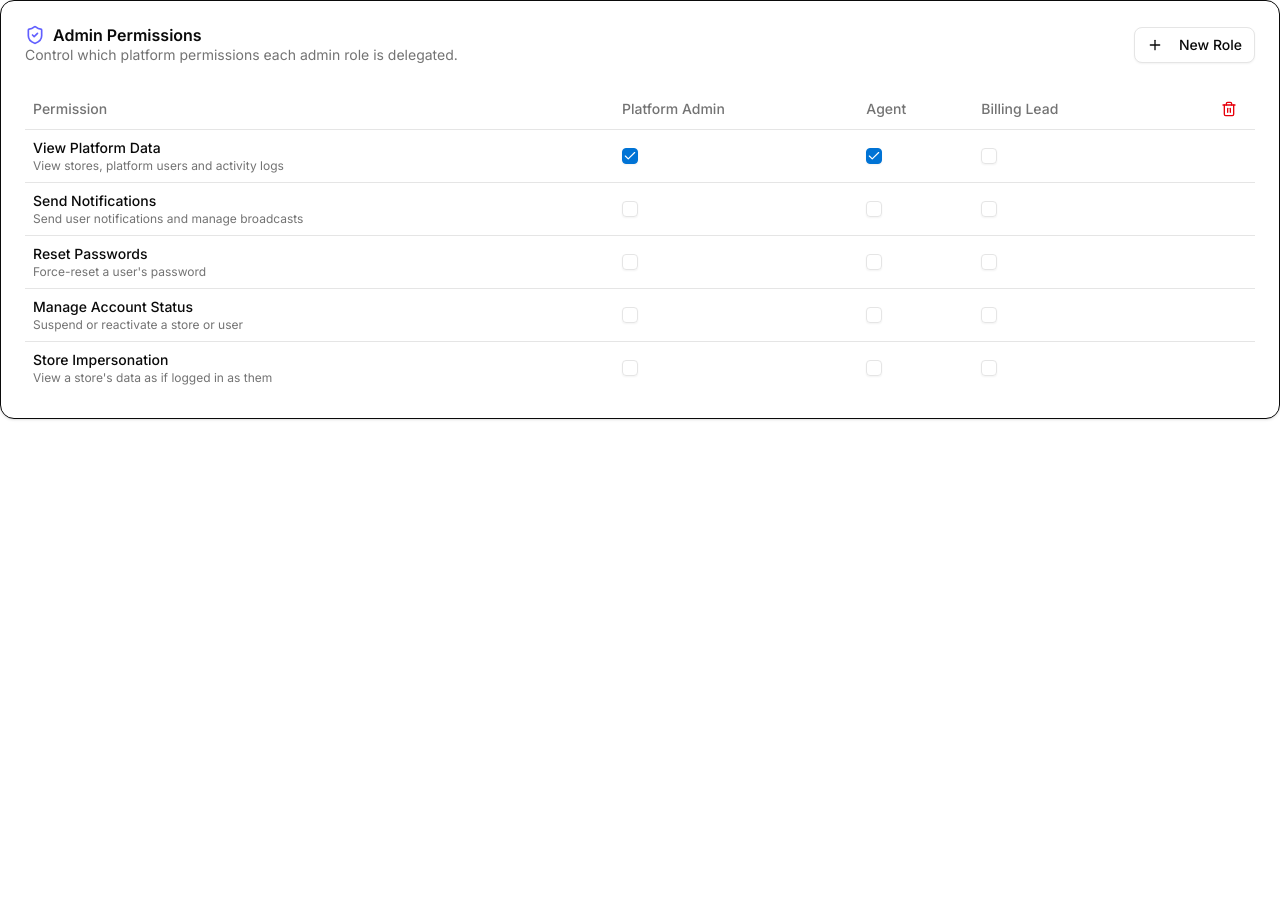
AdminPermissionsCard custom-role deletion › never promises that deleting will leave admins without the role
This screenshot has width=1280, height=900.
Click the button named "delete billing lead": [1229, 109] box [1211,91,1247,127]
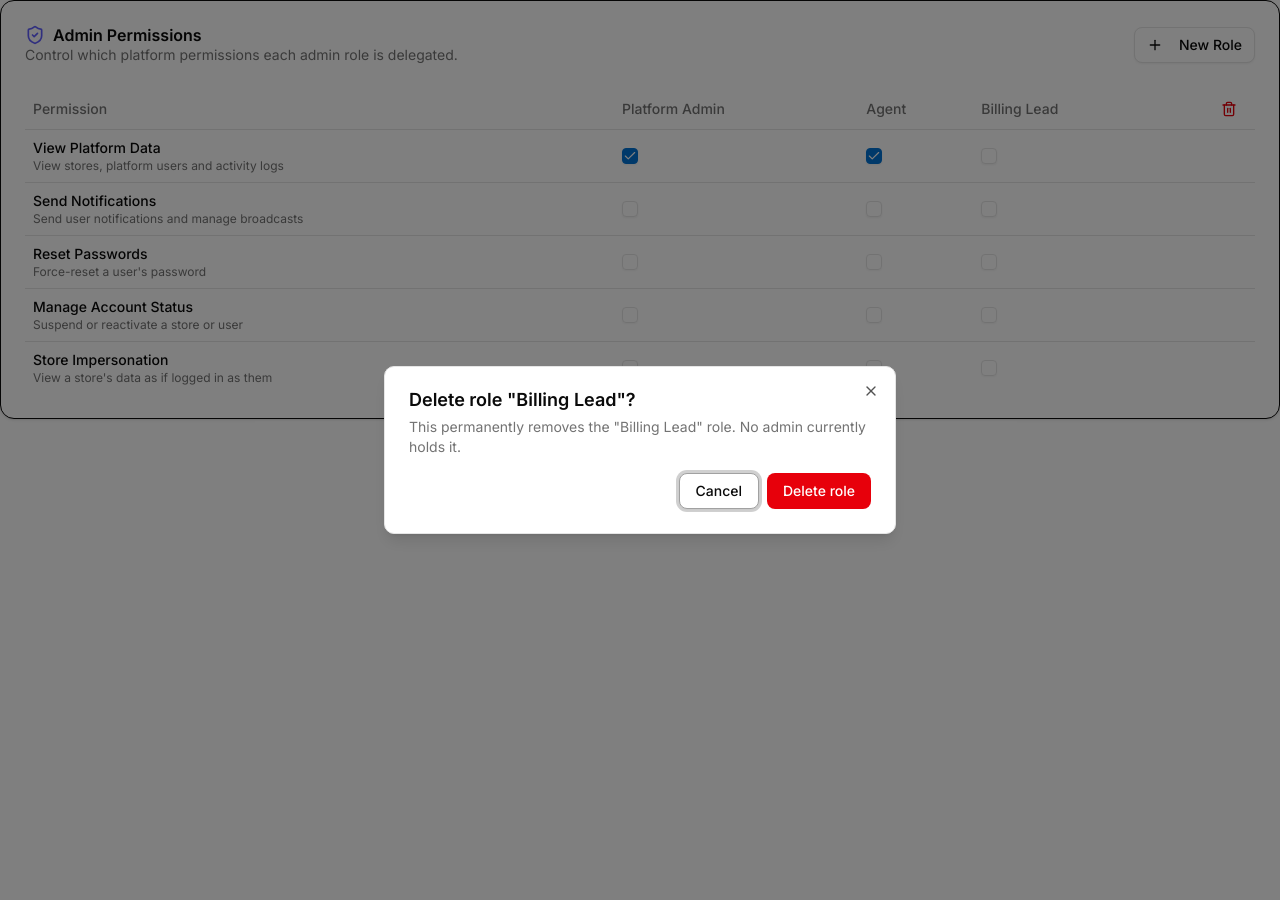
Check: the text "permanently removes" is shown, box [409,418,866,455]
